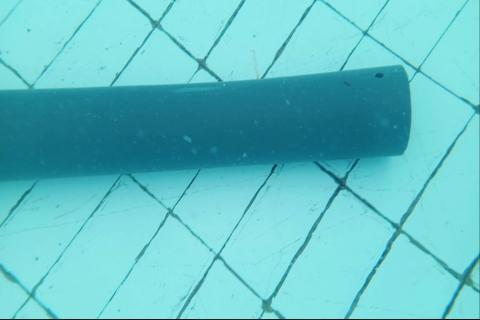kebocoran: (374, 71, 384, 80)
